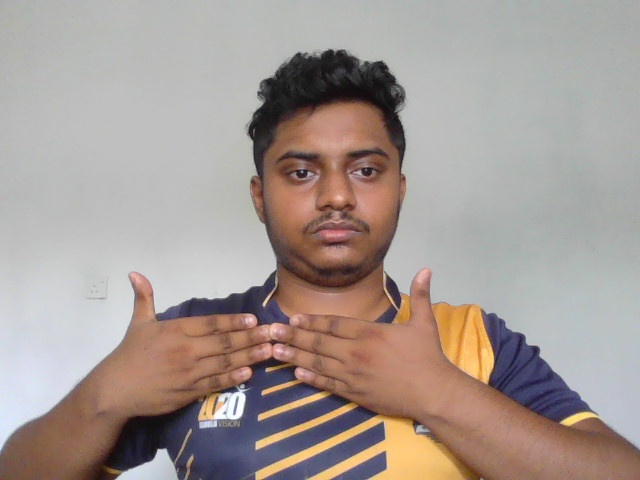Thank You: (104, 268, 460, 423)
